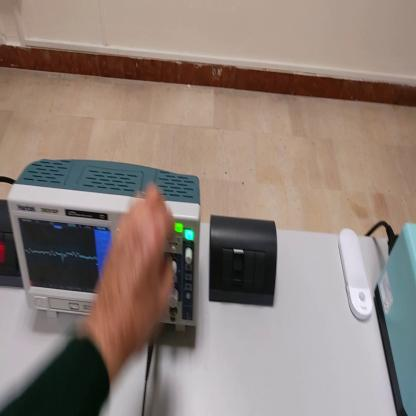hand: (96, 182, 179, 351)
oscilloscope: (6, 158, 200, 332)
socket: (1, 199, 22, 281)
welder station: (377, 224, 416, 414)
